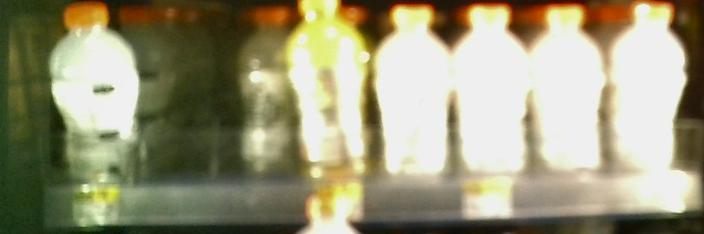bottle: (44, 2, 142, 183), (376, 1, 451, 184), (292, 3, 370, 176), (456, 3, 534, 176), (612, 5, 687, 170), (537, 8, 608, 173), (235, 2, 287, 173)
